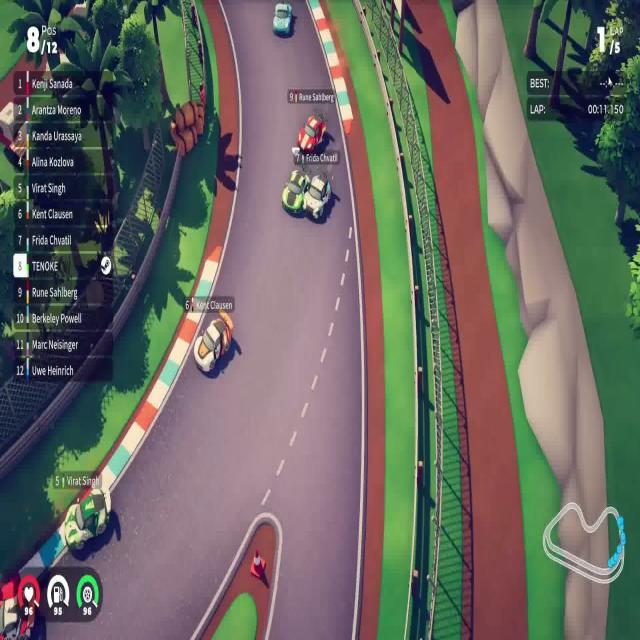car: (66, 485, 112, 553), (193, 309, 233, 374), (302, 170, 332, 220), (281, 167, 309, 216), (297, 111, 327, 154), (272, 2, 293, 37)
